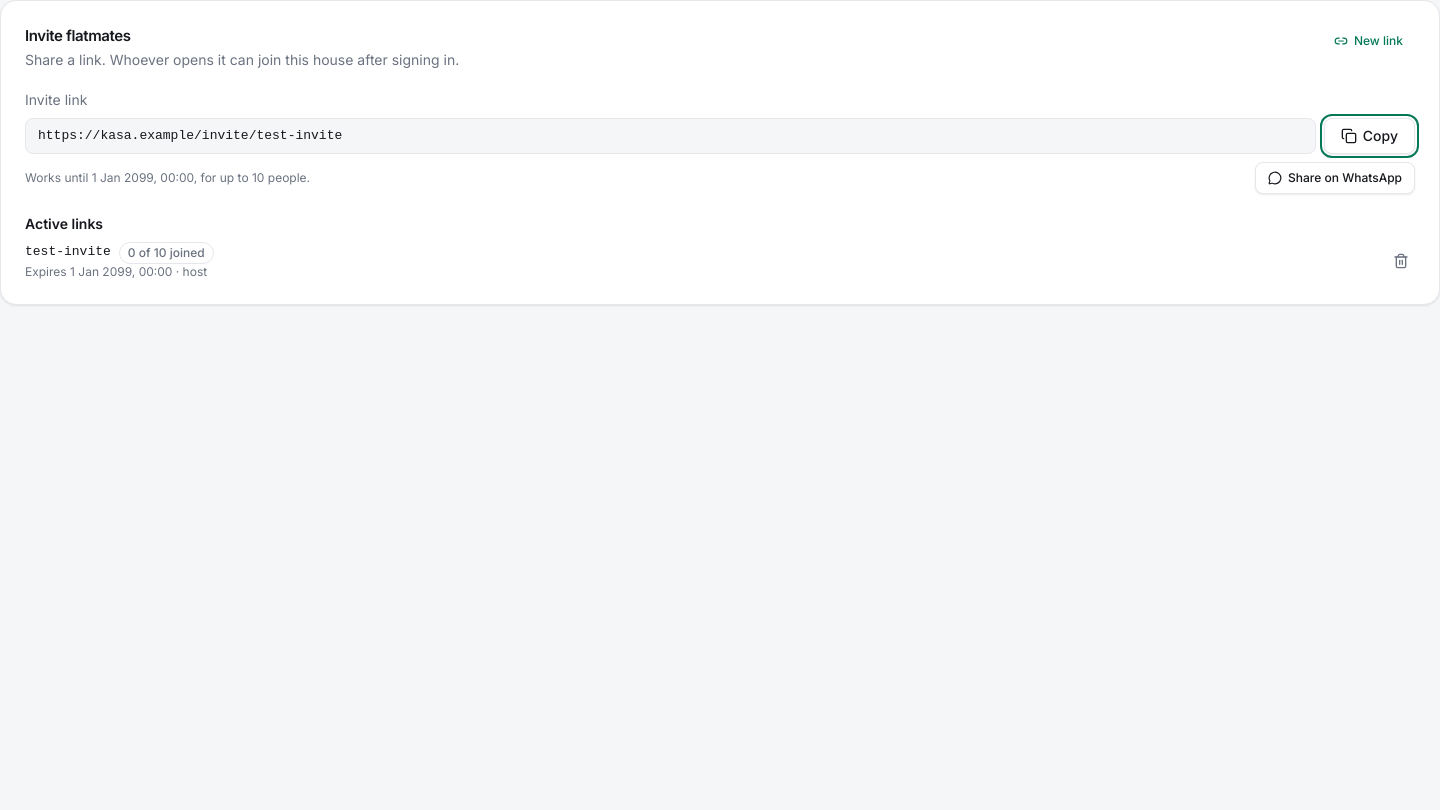
Test: announces clipboard success=false and offers manual copying on failure
Expected: the button named "Cancel invite link test-invite" is shown, [1387,246,1415,274]
Click the button "Copy". click: (1369, 136)
box: [1324,118,1415,154]
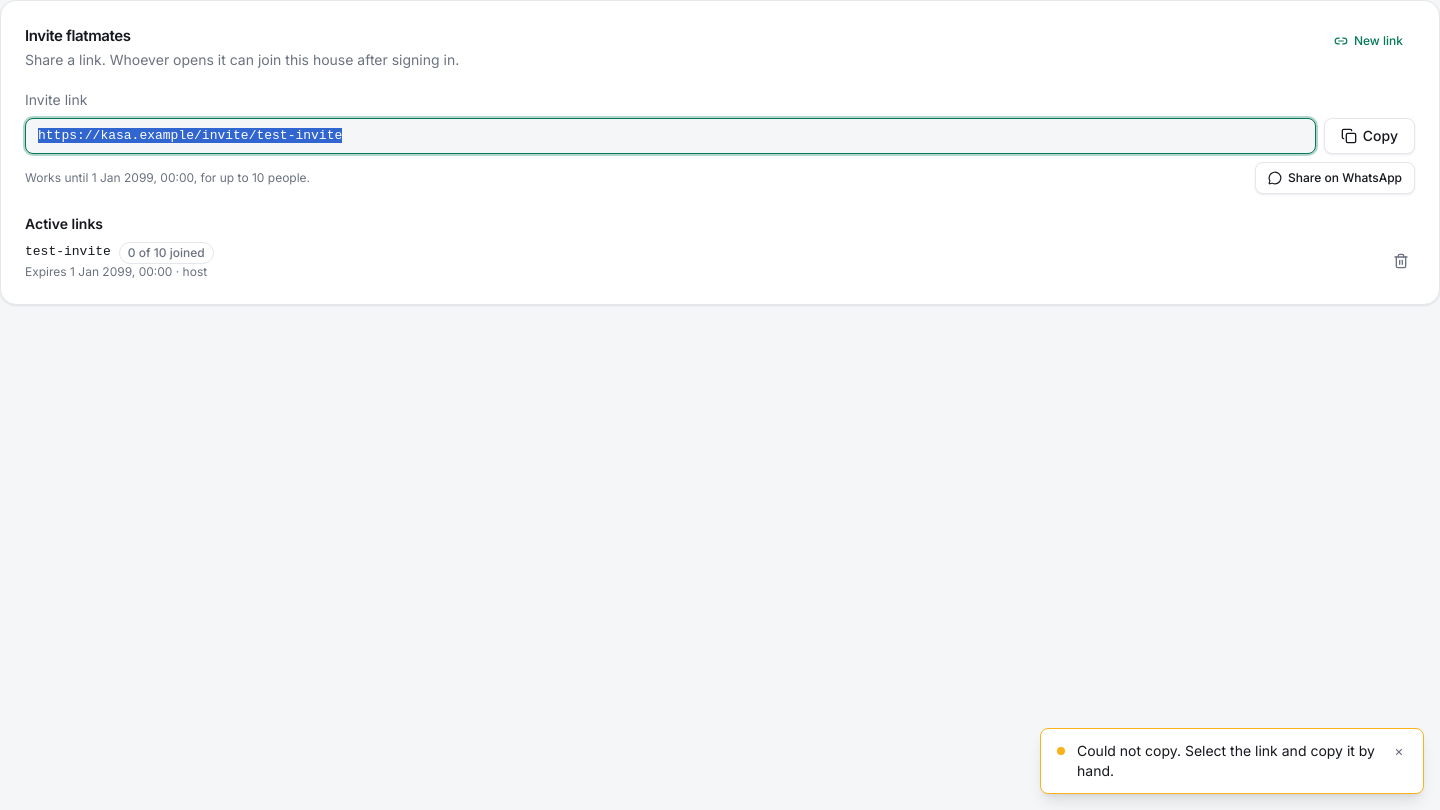
Expected: the message shows "Could not copy. Select the link and copy it by hand.", [1077,742,1375,779]
